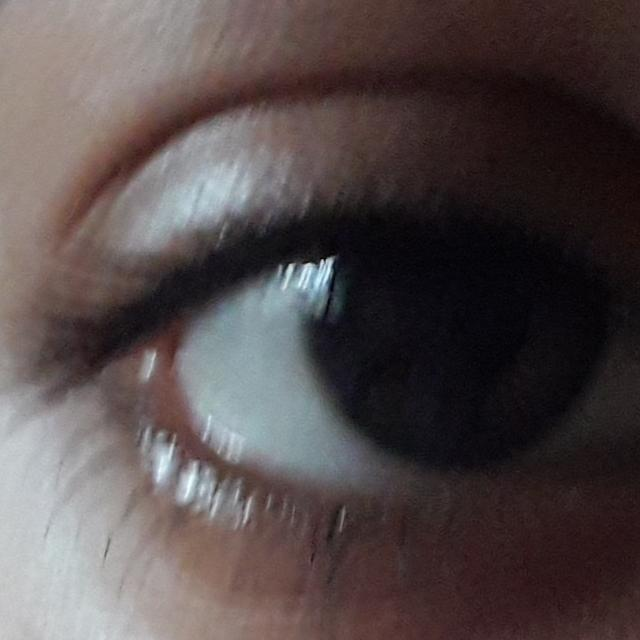eye: (157, 237, 640, 486)
iris: (295, 246, 608, 463)
